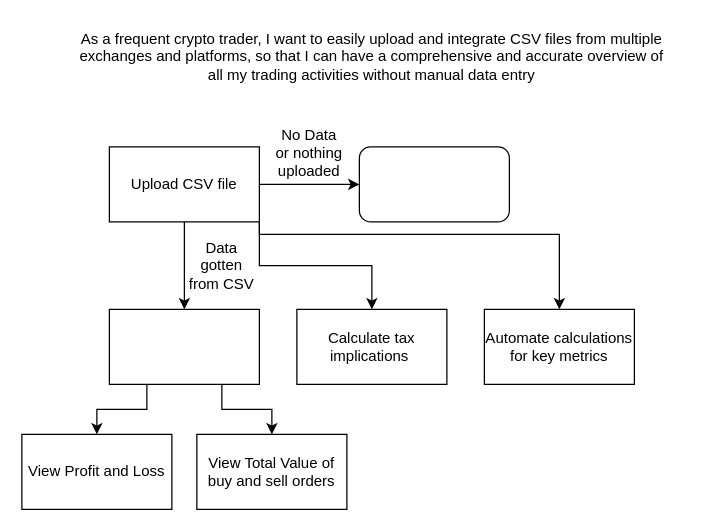
Image size: 725x531. Some labels were removed from this diagram. The shapes that lost their labels are listed below. From the top down, each one's box as (x1, y1, x2, y2) in pixels, then its label:
(358, 146, 509, 222): View app features with mock data
(108, 308, 259, 384): Visualize transaction data
